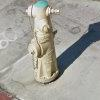Hydrant: (19, 1, 65, 85)
